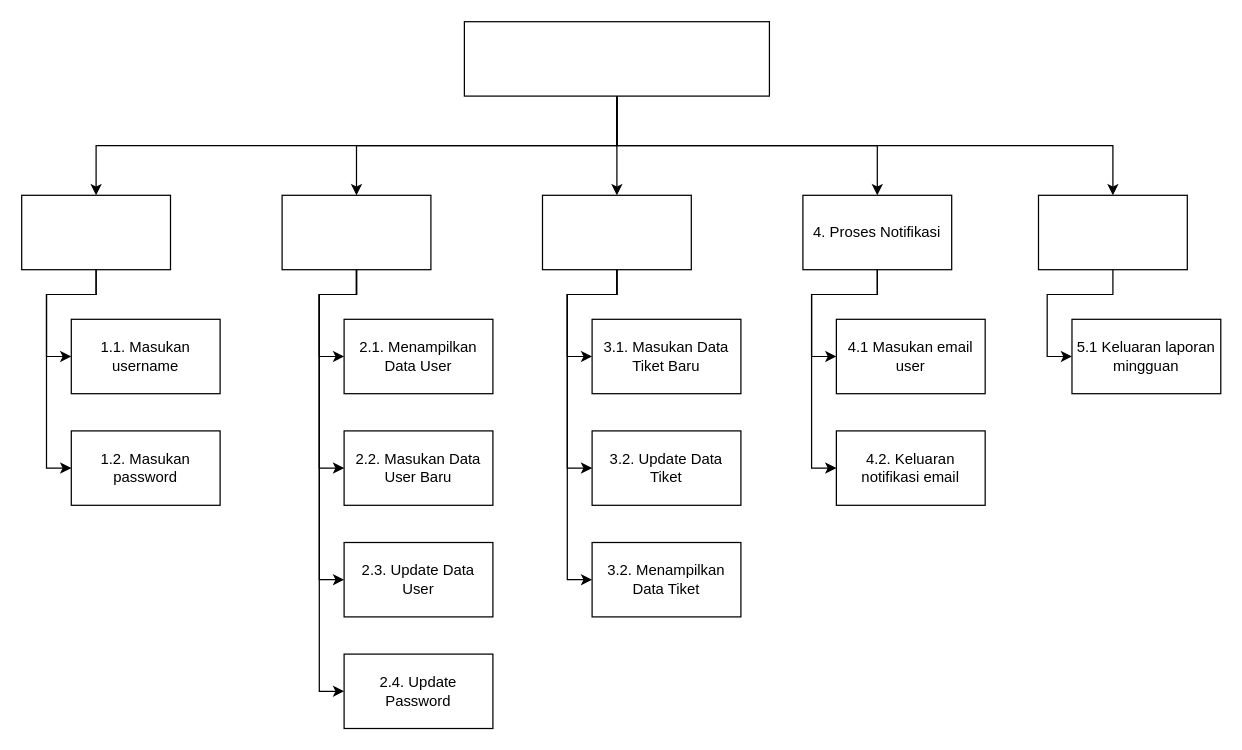
Image size: 1242x750. Some labels were removed from this diagram. Here are the shapes that lost their labels. From the top down, the centre of each, then its label:
the point at 616,58: Sistem Aplikasi Helpdesk Dengan Metode Ticketing Pada PT Immobi Solusi Prima
the point at 95,232: 1. Proses Login
the point at 356,232: 2. Proses User Management
the point at 616,232: 3. Proses Ticketing
the point at 1112,232: 5. Proses Pelaporan
